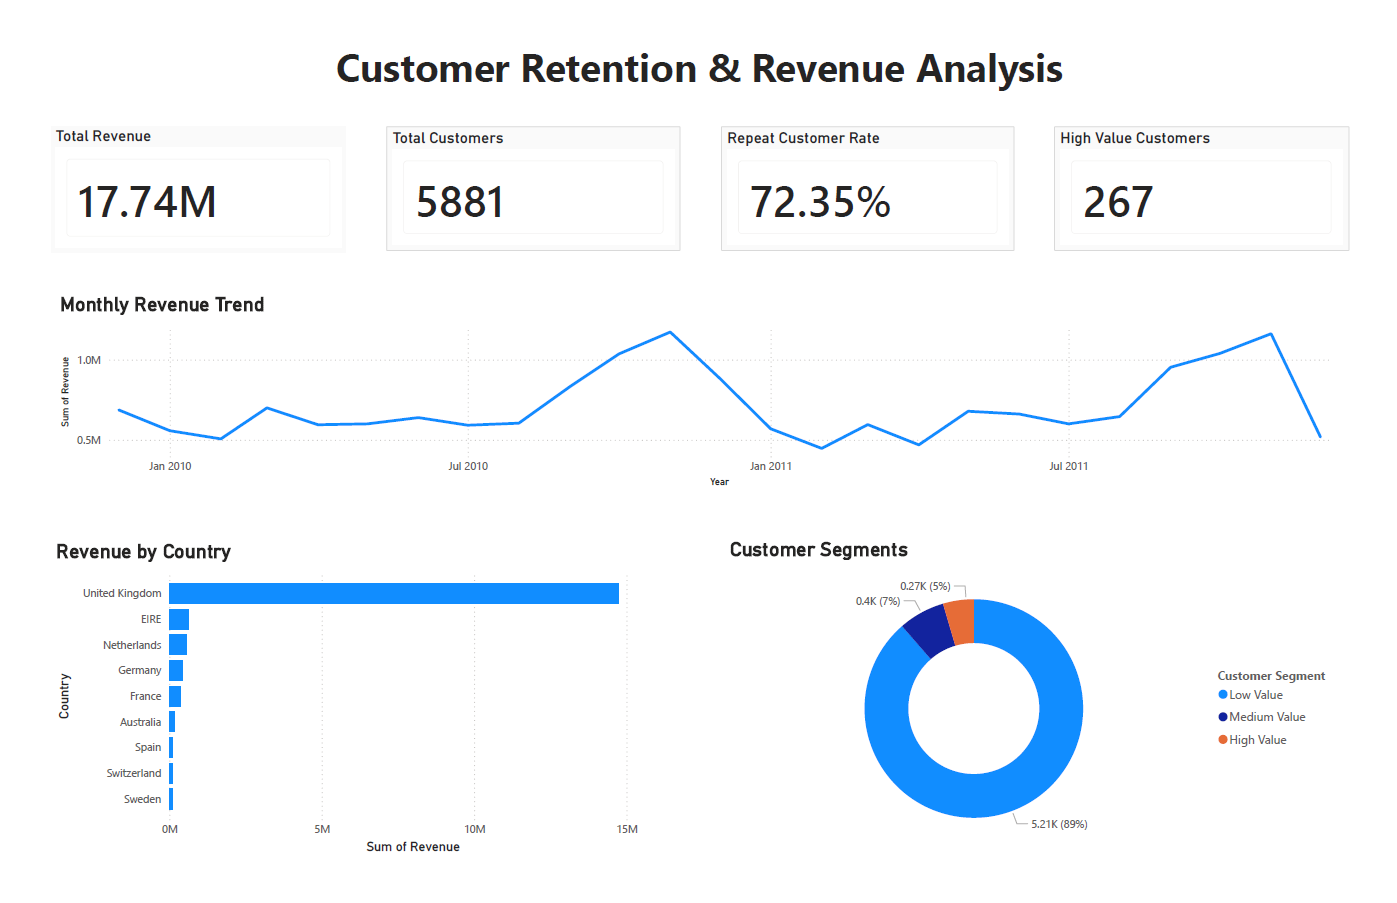

Layout of this report page (visuals, bound fields, positions):
{"tool":"powerbi","page":{"name":"Page 1","canvas":[1500,955],"ordinal":0},"visuals":[{"type":"cardVisual","title":"Total Revenue","fields":{"Data":["Sum(clean_retail_data.Revenue)"]},"box":[31.7,116.7,326.7,140],"z":0},{"type":"cardVisual","title":"Total Customers","fields":{"Data":["clean_retail_data.Total Customers"]},"box":[402.8,116.7,326.7,138.3],"z":1000},{"type":"cardVisual","title":"Repeat Customer Rate","fields":{"Data":["clean_retail_data.Repeat Customer Rate"]},"box":[773.9,116.7,325,138.3],"z":2000},{"type":"cardVisual","title":"High Value Customers","fields":{"Data":["clean_retail_data.High Value Customers"]},"box":[1143.3,116.7,326.7,138.3],"z":3000},{"type":"lineChart","title":"Monthly Revenue Trend","fields":{"Category":["clean_retail_data.InvoiceDate.Variation.Date Hierarchy.Year","clean_retail_data.InvoiceDate.Variation.Date Hierarchy.Month"],"Y":["Sum(clean_retail_data.Revenue)"]},"box":[31.7,291.7,1438.3,235],"z":4000},{"type":"clusteredBarChart","title":"Revenue by Country","fields":{"Category":["clean_retail_data.Country"],"Y":["Sum(clean_retail_data.Revenue)"]},"box":[28.3,565,696.7,368.3],"z":5000},{"type":"donutChart","title":"Customer Segments","fields":{"Category":["Customer Summary.Customer Segment"],"Y":["CountNonNull(Customer Summary.Customer ID)"]},"box":[774,563.3,696,368.3],"z":6000},{"type":"textbox","box":[30,16.7,1440,76.7],"z":7000}]}

Visuals, with their boxes in screenshot pixels (x1, y1, x2, y2), scaled from the page's 1500x955 canvas onto the 1397x903 screenshot:
"Total Revenue" cardVisual: (left=30, top=110, right=334, bottom=243)
"Total Customers" cardVisual: (left=375, top=110, right=679, bottom=241)
"Repeat Customer Rate" cardVisual: (left=721, top=110, right=1023, bottom=241)
"High Value Customers" cardVisual: (left=1065, top=110, right=1369, bottom=241)
"Monthly Revenue Trend" lineChart: (left=30, top=276, right=1369, bottom=498)
"Revenue by Country" clusteredBarChart: (left=26, top=534, right=675, bottom=882)
"Customer Segments" donutChart: (left=721, top=533, right=1369, bottom=881)
textbox: (left=28, top=16, right=1369, bottom=88)
